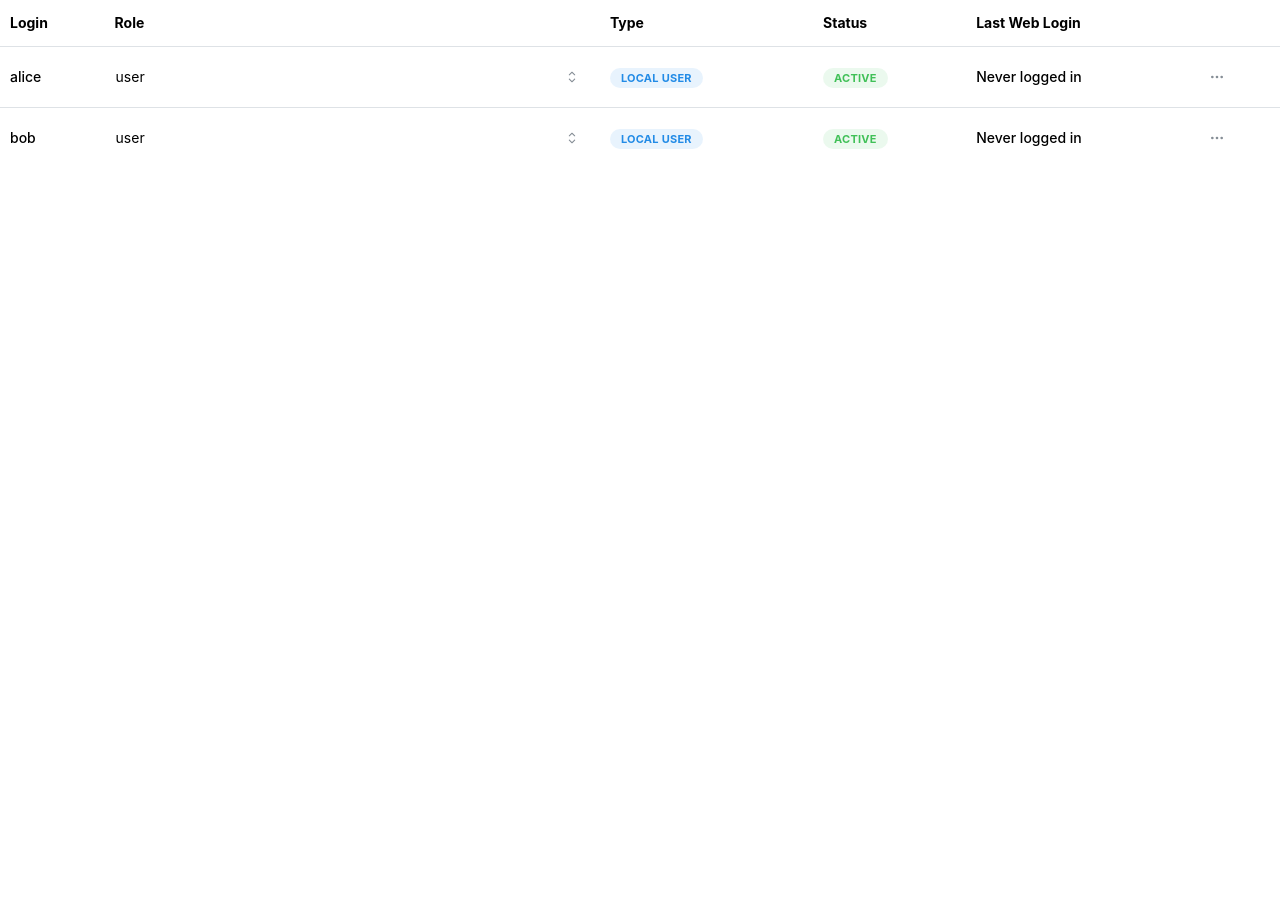
ListUsers › change password modal › shows the backend error when the password change fails
The width and height of the screenshot is (1280, 900).
Step 1. Click the button without text in the row of "bob" → click(1217, 138), box [1203,124,1231,152]
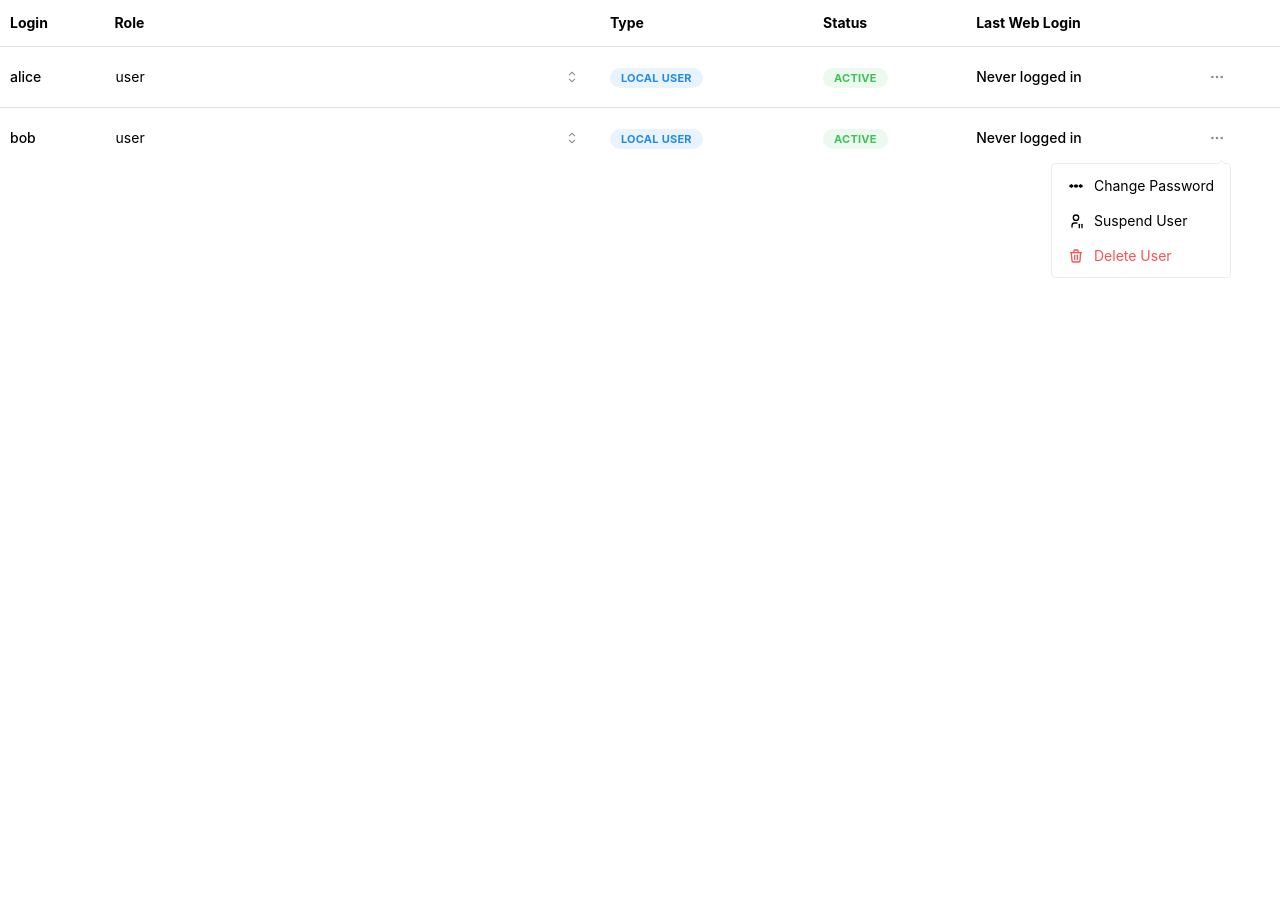
Step 2. Click the menu item "Change Password" → click(1141, 186), box [1056,168,1226,203]
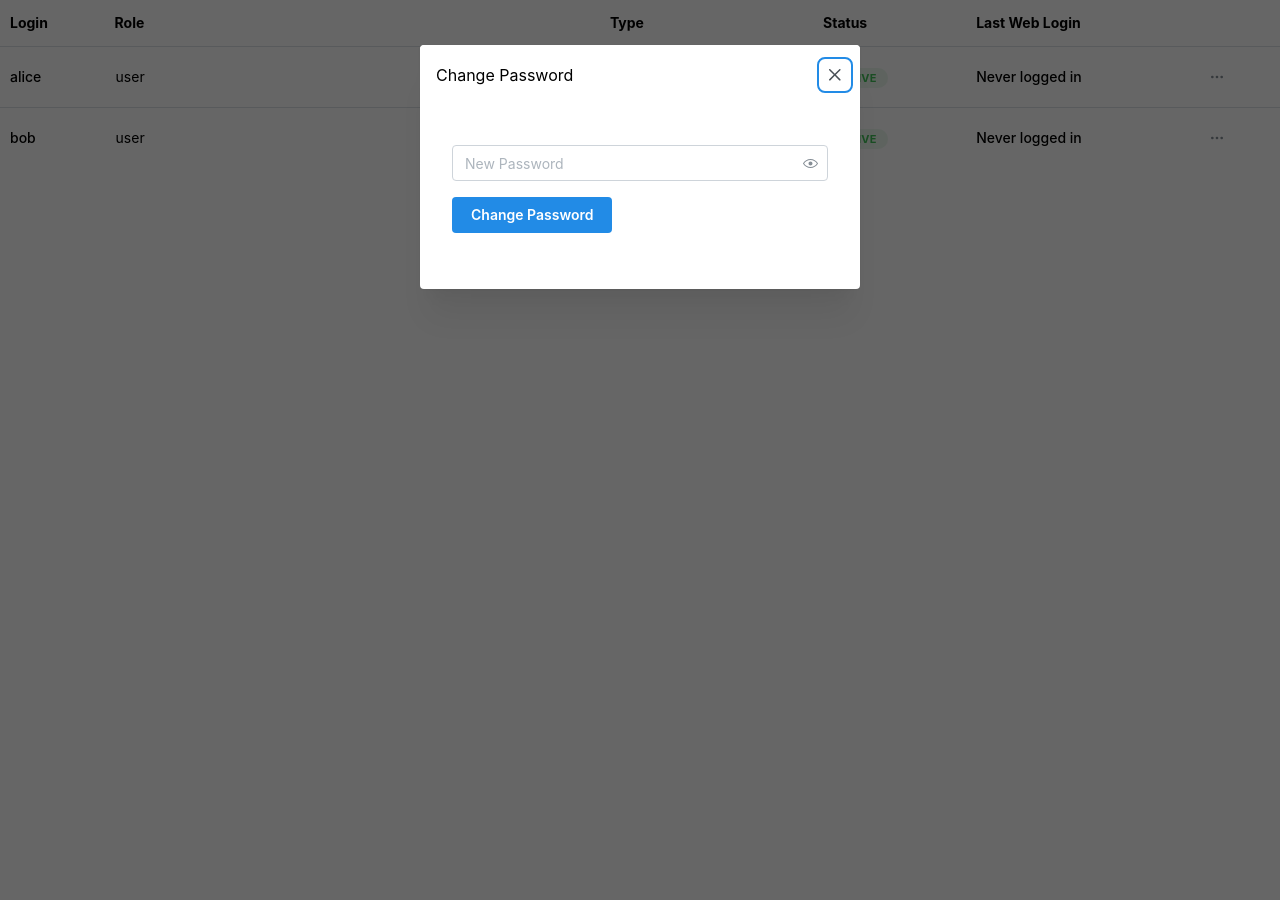
Step 3. Type "x" into the password field with placeholder "New Password" → (640, 163), box [453,146,827,180]
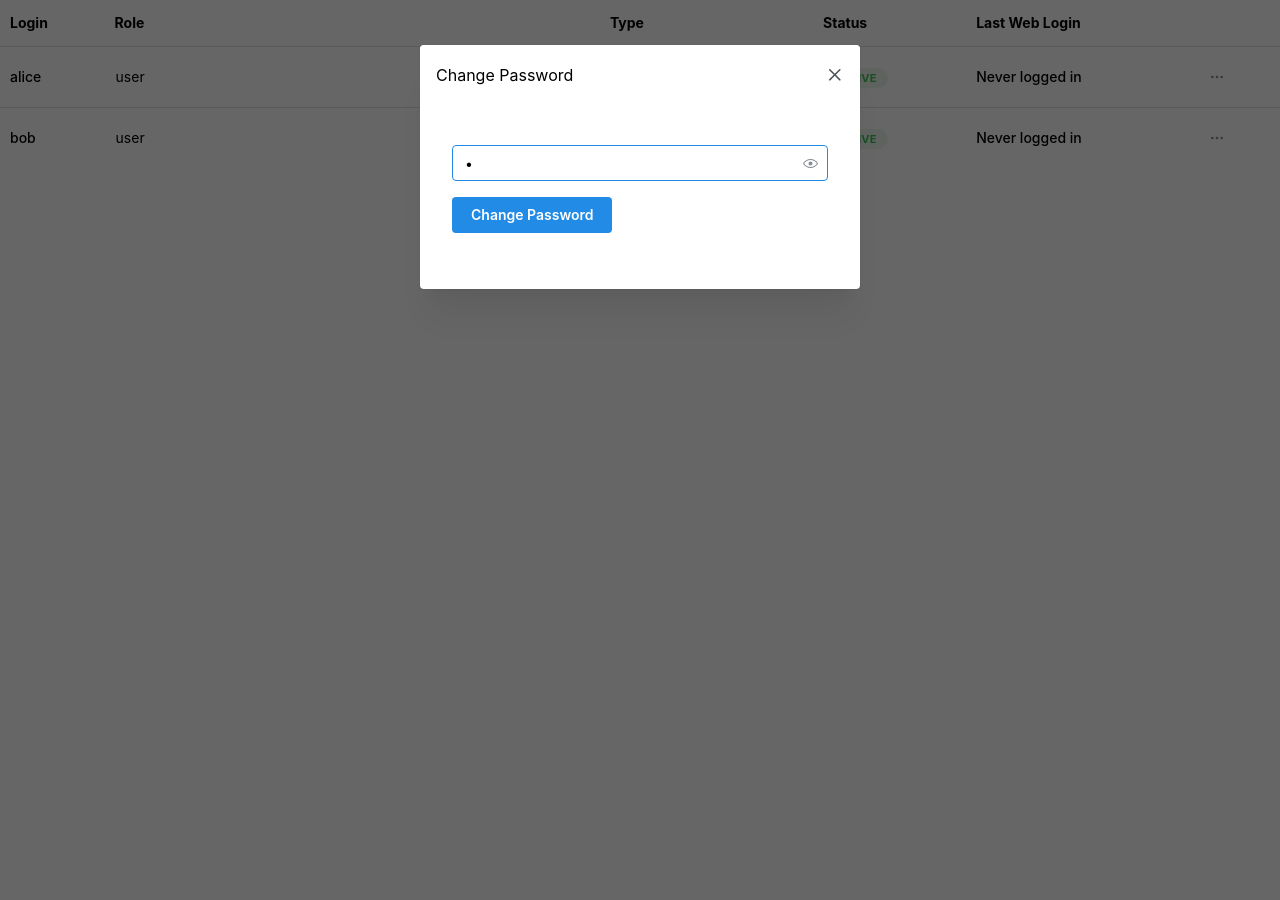
Step 4. Click the button "Change Password" → click(532, 215), box [452,197,612,233]
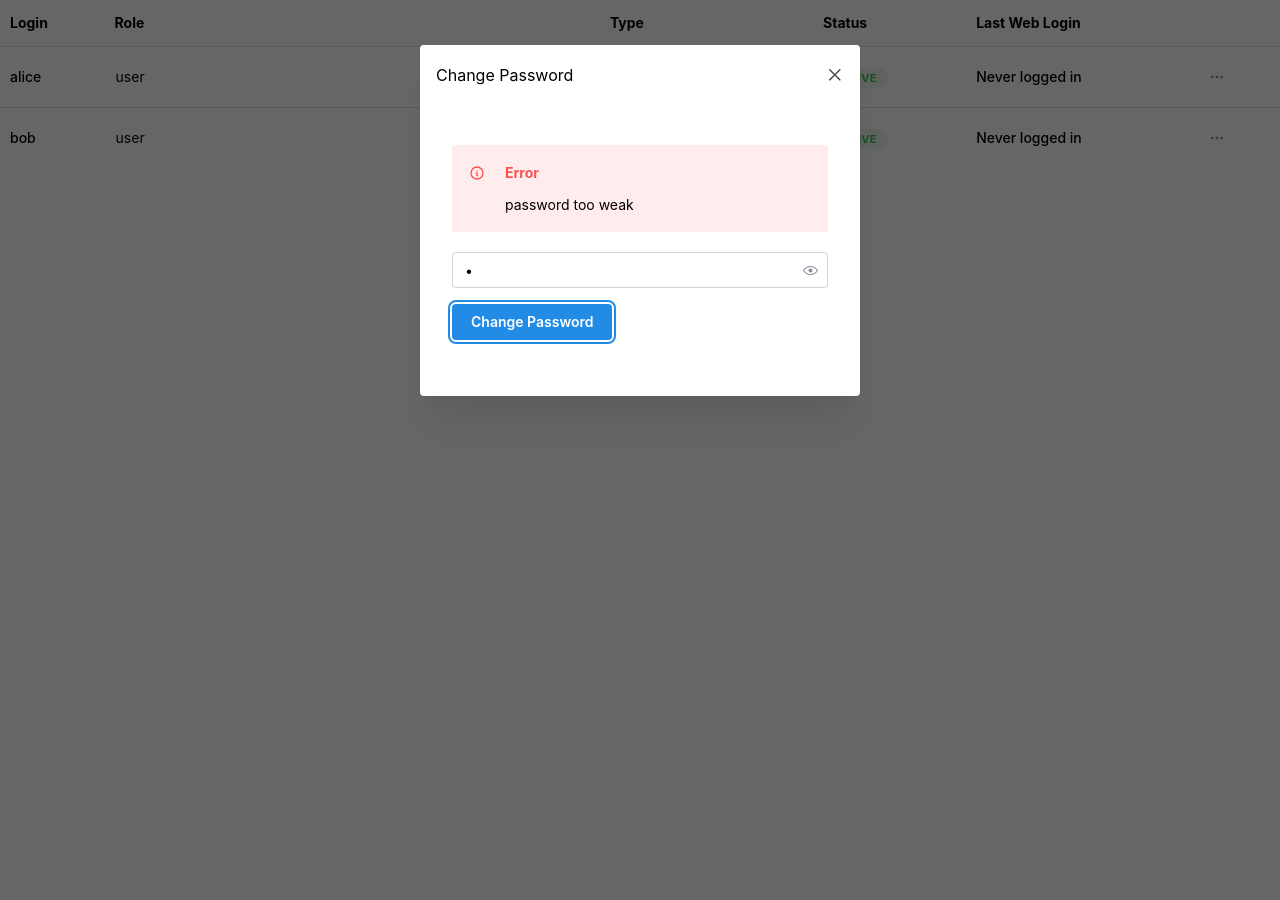
Result: the text "password too weak" is shown at [505,196,634,213]
